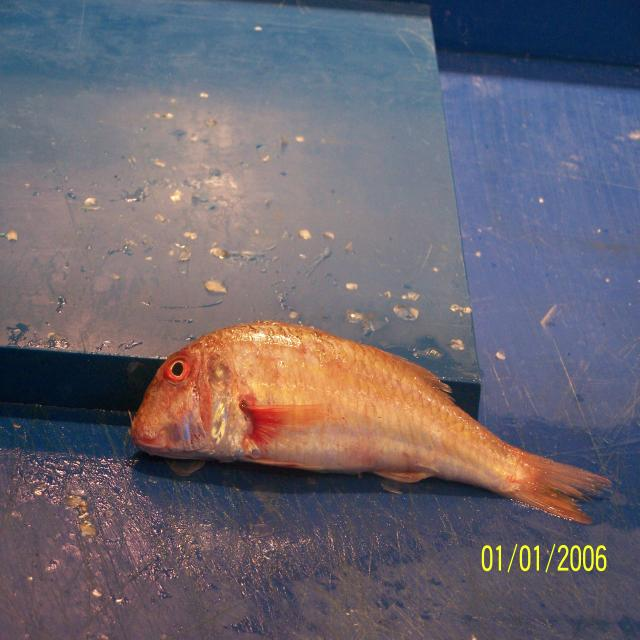Striped-Red-Mullet-tekir-: (130, 321, 611, 525)
